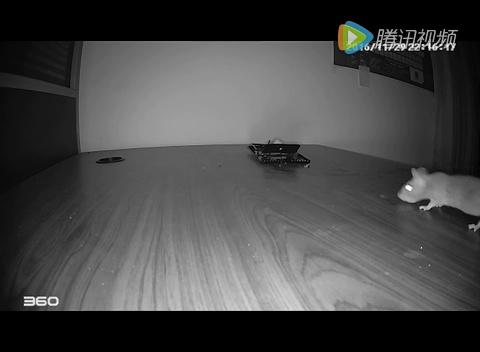rat: (393, 166, 477, 227)
